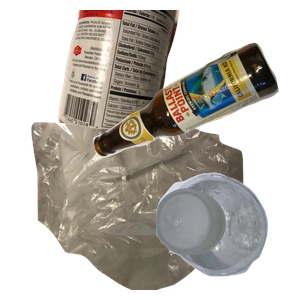glass: (91, 40, 300, 190)
metal: (55, 10, 227, 149)
plastic: (153, 170, 300, 300)
trash: (29, 120, 265, 300)
